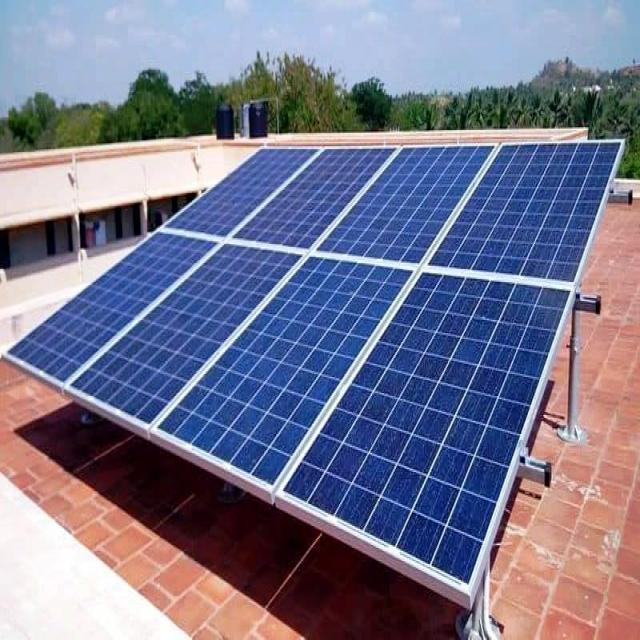no faulty: (281, 270, 581, 583), (148, 249, 414, 512), (60, 238, 306, 472), (0, 234, 211, 399), (429, 137, 628, 280), (237, 138, 409, 242), (160, 144, 322, 232)
